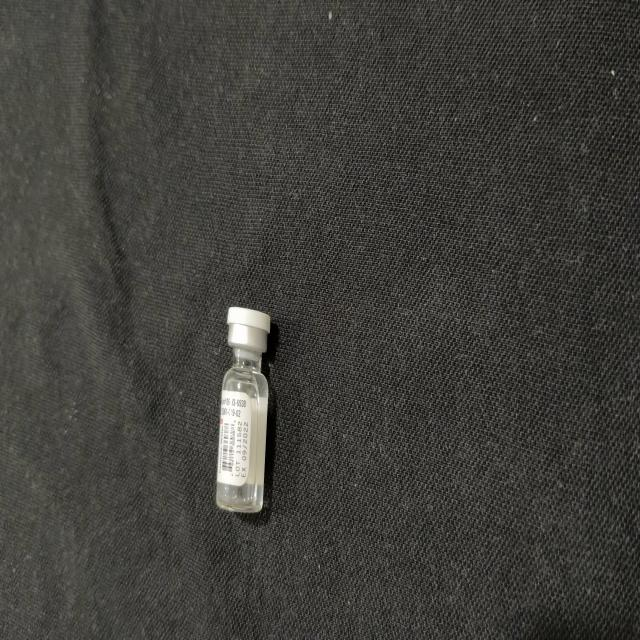fentanl_citrat: (217, 311, 269, 509)
